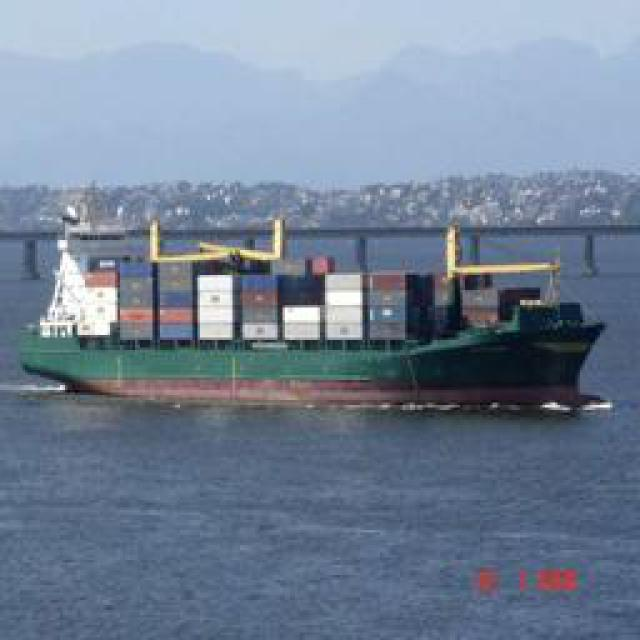Ship: (16, 215, 619, 408)
